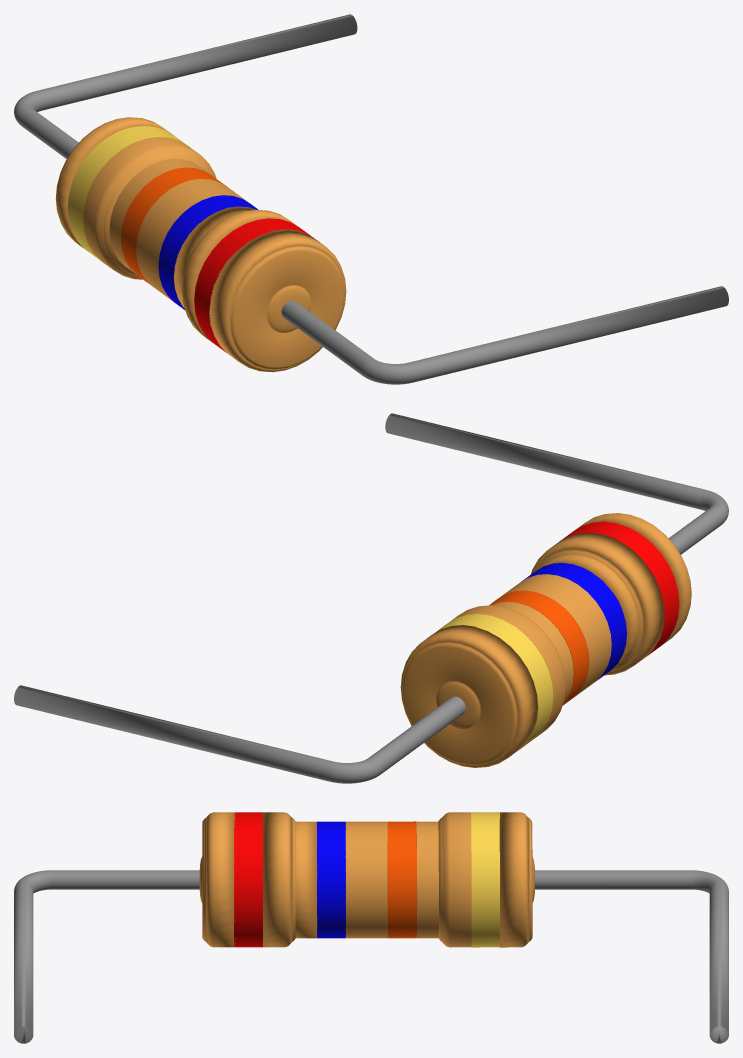
File: resistencia_90.fbx
3 renders of one model, top to bottom at view 1: azimuth 30°, elevation 25°; view 2: azimuth 150°, elevation 25°; view 3: azimuth 270°, elevation 25°, orthographic. The views are drawn at different scales.
Visible parts, largest first — view 1: Cilindro10, Cilindro01, Cilindro07, Cilindro03, Cilindro05, Cilindro08, Cilindro02, Cilindro06, Cilindro04, Cilindro09; view 2: Cilindro10, Cilindro09, Cilindro03, Cilindro07, Cilindro05, Cilindro08, Cilindro02, Cilindro06, Cilindro04, Cilindro01; view 3: Cilindro10, Cilindro07, Cilindro03, Cilindro05, Cilindro09, Cilindro01, Cilindro08, Cilindro02, Cilindro06, Cilindro04.
Part boxes in pixels (x1=…): Cilindro10: x1=14, y1=14, x2=728, y2=384; Cilindro01: x1=209, y1=229, x2=346, y2=372; Cilindro07: x1=83, y1=137, x2=216, y2=279; Cilindro03: x1=173, y1=206, x2=299, y2=341; Cilindro05: x1=136, y1=178, x2=248, y2=301; Cilindro08: x1=67, y1=126, x2=188, y2=259; Cilindro02: x1=194, y1=218, x2=314, y2=352; Cilindro06: x1=121, y1=167, x2=226, y2=284; Cilindro04: x1=158, y1=195, x2=258, y2=309; Cilindro09: x1=55, y1=117, x2=173, y2=248; Cilindro10: x1=14, y1=413, x2=728, y2=783; Cilindro09: x1=400, y1=625, x2=538, y2=767; Cilindro03: x1=531, y1=532, x2=664, y2=675; Cilindro07: x1=450, y1=602, x2=573, y2=737; Cilindro05: x1=500, y1=574, x2=611, y2=696; Cilindro08: x1=435, y1=614, x2=553, y2=748; Cilindro02: x1=559, y1=521, x2=679, y2=655; Cilindro06: x1=489, y1=590, x2=589, y2=705; Cilindro04: x1=521, y1=563, x2=626, y2=680; Cilindro01: x1=575, y1=513, x2=691, y2=644; Cilindro10: x1=14, y1=870, x2=728, y2=1043; Cilindro07: x1=416, y1=812, x2=471, y2=947; Cilindro03: x1=263, y1=812, x2=317, y2=947; Cilindro05: x1=345, y1=821, x2=387, y2=938; Cilindro09: x1=499, y1=812, x2=534, y2=947; Cilindro01: x1=199, y1=812, x2=235, y2=947; Cilindro08: x1=471, y1=812, x2=499, y2=947; Cilindro02: x1=234, y1=812, x2=262, y2=947; Cilindro06: x1=387, y1=821, x2=416, y2=938; Cilindro04: x1=317, y1=821, x2=345, y2=938.
Bounding box in the file's own units: 4498 × 1400 × 7398.
